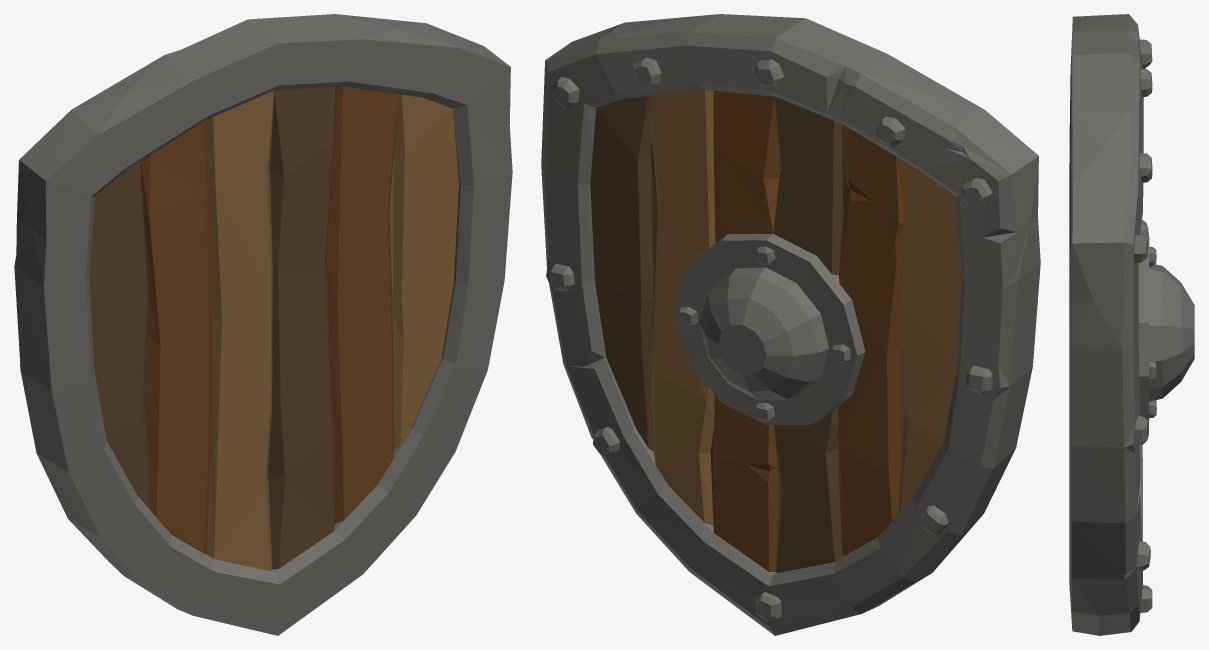
The model's file is WoodenKiteShield.fbx.
3 renders of one model, left to right at view 1: azimuth 30°, elevation 25°; view 2: azimuth 150°, elevation 25°; view 3: azimuth 270°, elevation 25°, orthographic. The views are drawn at different scales.
Visible parts, largest first — view 1: WoodenKiteShield; view 2: WoodenKiteShield; view 3: WoodenKiteShield.
Part boxes in pixels (bbox=[...]): WoodenKiteShield: bbox=[14, 14, 512, 635]; WoodenKiteShield: bbox=[541, 14, 1040, 635]; WoodenKiteShield: bbox=[1069, 14, 1194, 635].
Bounding box in the file's own units: 0.8339 × 0.1961 × 1.
